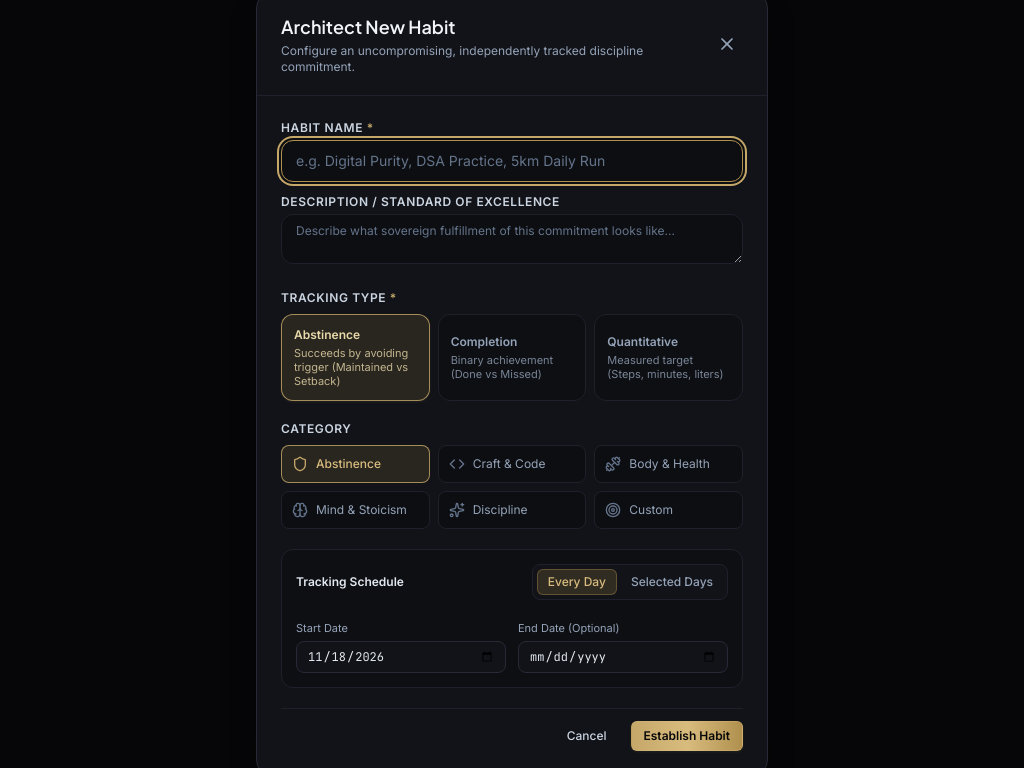
it: WCAG 2.1 AA Keyboard Navigation & Focus Management (AUDIT-A11Y-01) › 6. associates form labels with inputs and announces validation errors with role="alert"
Expected: the field labelled "Habit Name *" is shown, [281,140,743,182]
Click the button "Establish Habit": (687, 736) [630,721,743,751]
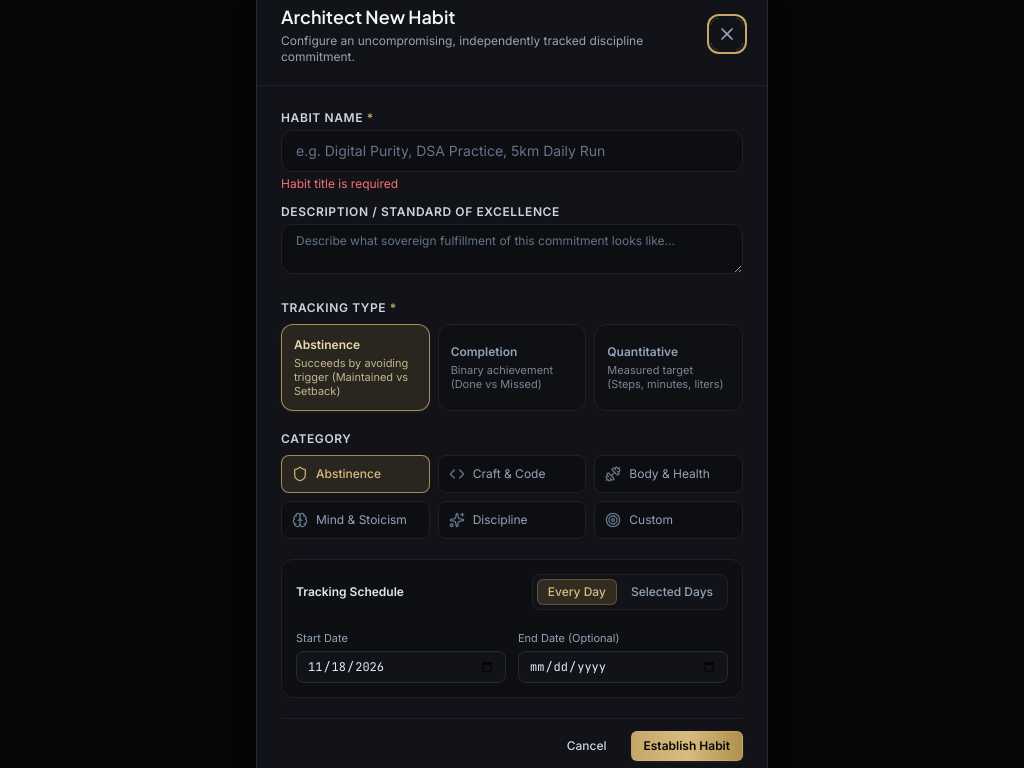
Expected: the message "Habit title is required" is shown, [281,176,398,191]
